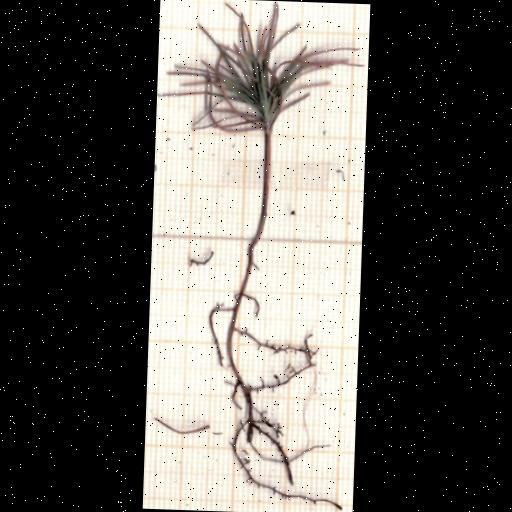flowerCedr: (166, 2, 357, 134)
rootCedr: (207, 292, 330, 503)
stemCedr: (238, 127, 271, 298)
